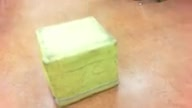cube: (35, 15, 119, 105)
